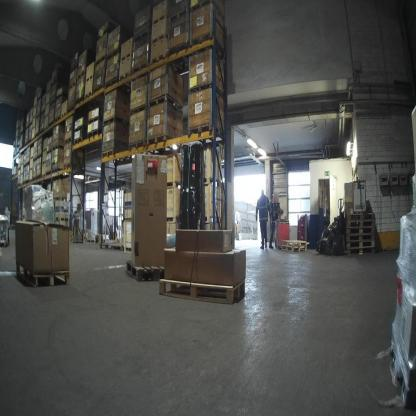pallet: (158, 275, 247, 304), (386, 340, 414, 411), (14, 260, 71, 288), (190, 31, 224, 60), (126, 259, 164, 282), (187, 121, 224, 144), (166, 40, 192, 71), (148, 93, 183, 113), (145, 134, 179, 153), (187, 83, 227, 99), (189, 0, 226, 13), (103, 115, 130, 127), (347, 245, 376, 256), (100, 146, 125, 158), (347, 225, 376, 235), (133, 28, 151, 44), (169, 8, 189, 22), (133, 62, 149, 79), (129, 102, 148, 116), (204, 176, 222, 190), (151, 32, 169, 45), (281, 244, 306, 253), (347, 219, 375, 227), (347, 239, 375, 247), (129, 139, 147, 151), (151, 14, 169, 26), (281, 239, 307, 247), (205, 214, 223, 225), (348, 213, 376, 220), (118, 69, 133, 82), (105, 78, 120, 91), (150, 53, 166, 65), (106, 47, 120, 60), (92, 82, 105, 96), (346, 234, 376, 240), (85, 129, 104, 138), (63, 161, 82, 170), (167, 180, 184, 190), (95, 53, 107, 67), (120, 51, 133, 63), (165, 215, 180, 225), (87, 114, 102, 123), (73, 122, 85, 132), (0, 239, 9, 250), (73, 137, 84, 146), (77, 69, 86, 80), (68, 79, 77, 90), (75, 95, 84, 105), (66, 105, 75, 114), (85, 74, 94, 83), (84, 90, 92, 100), (51, 168, 63, 174), (52, 144, 64, 150), (123, 246, 132, 254), (86, 238, 96, 245), (64, 137, 72, 145), (48, 119, 55, 128), (56, 93, 62, 101), (61, 111, 67, 118), (45, 170, 51, 177), (56, 116, 61, 122), (42, 147, 47, 153), (32, 176, 37, 182), (45, 112, 49, 119), (41, 173, 46, 178), (36, 175, 41, 180), (46, 150, 52, 154), (44, 125, 48, 131), (42, 159, 46, 165), (45, 101, 49, 107), (30, 155, 34, 161), (29, 167, 33, 172), (33, 104, 37, 109), (46, 90, 50, 95), (31, 137, 35, 141), (29, 178, 32, 183), (32, 125, 35, 130), (20, 172, 23, 177), (33, 115, 36, 120), (21, 162, 24, 166), (20, 182, 23, 186), (14, 173, 16, 177)
pallet_truck: (275, 208, 302, 252), (335, 197, 346, 256)
